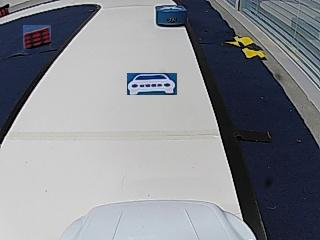prop: (156, 5, 187, 26)
